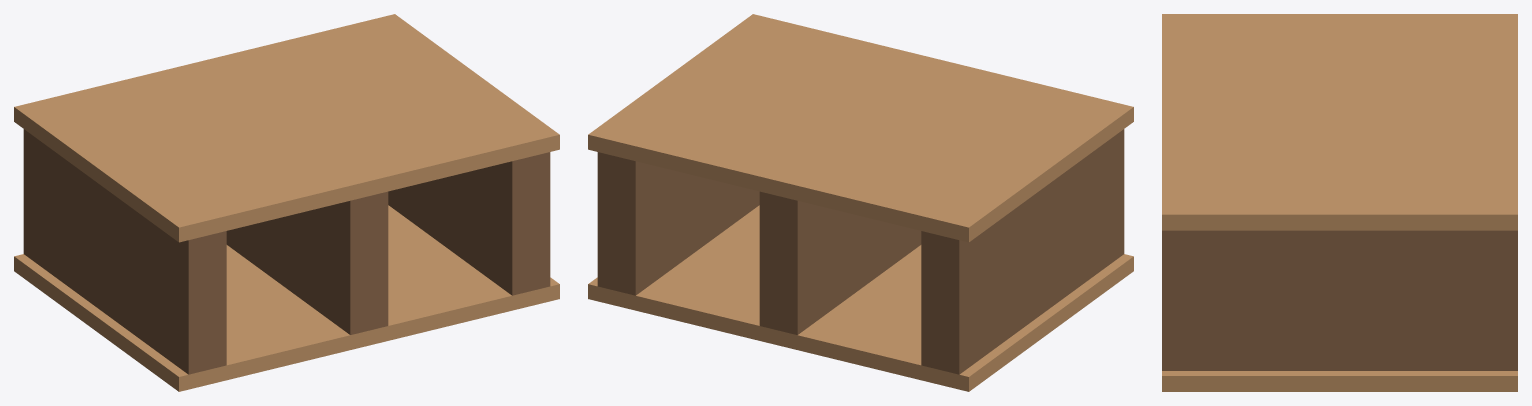
The model's file is LowPallet.fbx.
3 views of the same model, side by side, from view 1: azimuth 30°, elevation 25°; view 2: azimuth 150°, elevation 25°; view 3: azimuth 270°, elevation 25° (orthographic). The views are drawn at different scales.
Visible parts, largest first — view 1: LowPalletBody; view 2: LowPalletBody; view 3: LowPalletBody.
Part boxes in pixels (<box>): LowPalletBody: <box>14,14,559,391</box>; LowPalletBody: <box>588,14,1133,391</box>; LowPalletBody: <box>1162,14,1517,391</box>.
Size of the model in its own units: 0.8 by 0.33 by 0.6.
